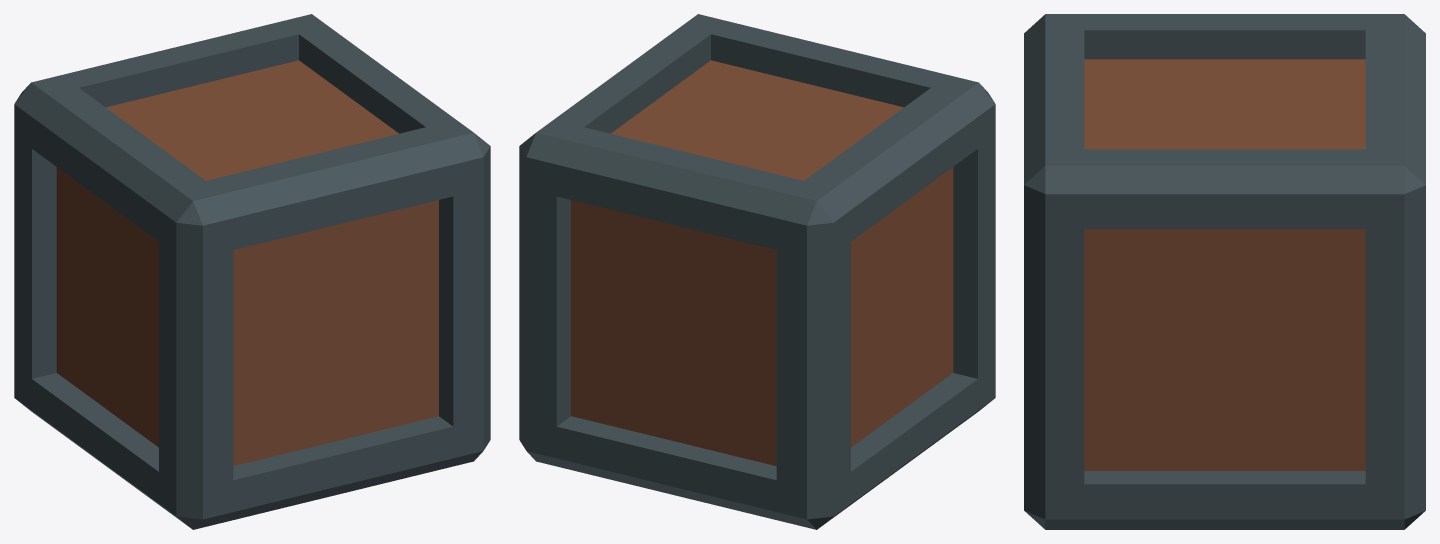
File: crate.glb
3 renders of one model, left to right at view 1: azimuth 30°, elevation 25°; view 2: azimuth 150°, elevation 25°; view 3: azimuth 270°, elevation 25°, orthographic. The views are drawn at different scales.
Visible parts, largest first — view 1: Crate; view 2: Crate; view 3: Crate.
Boxes of the visible parts, box(x1,y1,x2,y2) form: Crate: box(14, 14, 490, 529); Crate: box(519, 14, 995, 529); Crate: box(1024, 14, 1425, 529).
Size of the model in its own units: 2 by 2 by 2.
1 material, 1 textured.
